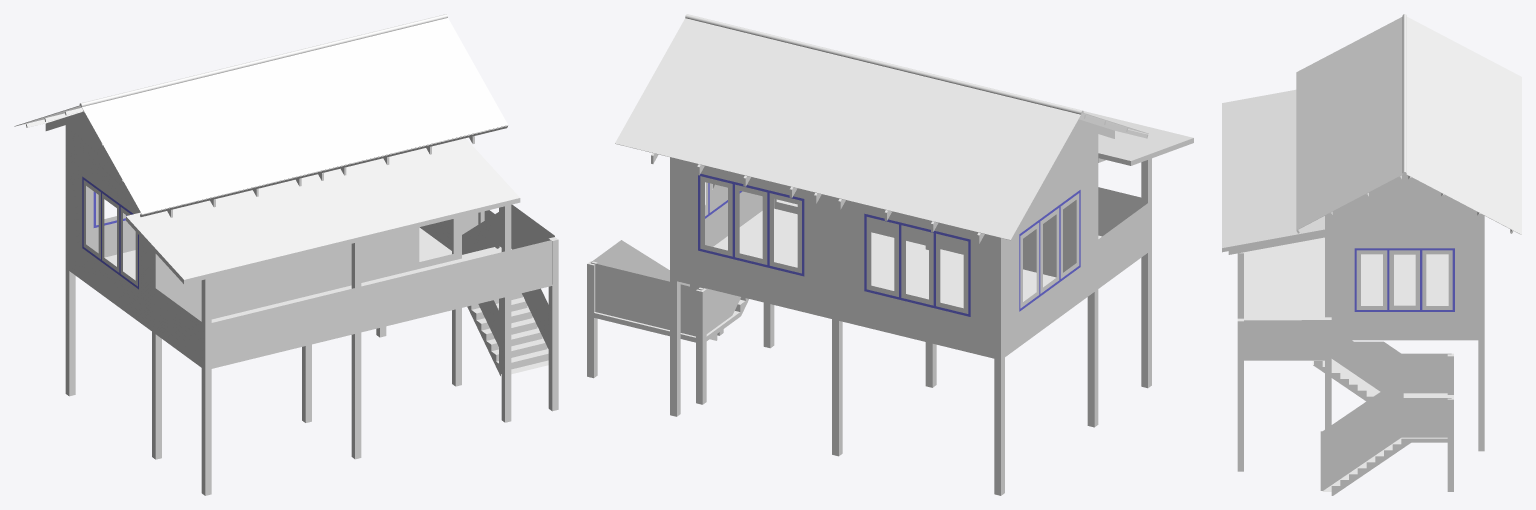
The model's file is smallhouse2.glb.
The picture shows the model from 3 angles, left to right: view 1: azimuth 30°, elevation 25°; view 2: azimuth 150°, elevation 25°; view 3: azimuth 270°, elevation 25°; orthographic projection. The views are drawn at different scales.
Visible parts, largest first — view 1: SketchUp.050, SketchUp.054, SketchUp.006, SketchUp.004, SketchUp.003, SketchUp.009, SketchUp.026, group_11.001, SketchUp.048, group_8, SketchUp.008, group_9 (+16 smaller); view 2: SketchUp.049, SketchUp.047, SketchUp.006, group_12, SketchUp.008, SketchUp.048, SketchUp.009, SketchUp.005, group_7, group_4, group_8, SketchUp.054 (+20 smaller); view 3: SketchUp.049, SketchUp.050, SketchUp.007, SketchUp.054, SketchUp.008, group_12, group_12.001, SketchUp.002, SketchUp.051, group_11.001, group_4, SketchUp.012 (+11 smaller).
Part boxes in pixels (x1=…): SketchUp.050: x1=82, y1=18, x2=507, y2=214; SketchUp.054: x1=126, y1=138, x2=519, y2=279; SketchUp.006: x1=69, y1=127, x2=151, y2=329; SketchUp.004: x1=361, y1=251, x2=504, y2=331; SketchUp.003: x1=211, y1=288, x2=354, y2=367; SketchUp.009: x1=162, y1=255, x2=305, y2=321; SketchUp.026: x1=312, y1=228, x2=455, y2=294; group_11.001: x1=467, y1=293, x2=548, y2=376; SketchUp.048: x1=14, y1=14, x2=507, y2=214; group_8: x1=201, y1=278, x2=211, y2=495; SketchUp.008: x1=104, y1=227, x2=511, y2=322; group_9: x1=351, y1=241, x2=361, y2=459; SketchUp.049: x1=615, y1=18, x2=1080, y2=239; SketchUp.047: x1=677, y1=159, x2=1000, y2=358; SketchUp.006: x1=1005, y1=136, x2=1094, y2=355; group_12: x1=590, y1=240, x2=740, y2=336; SketchUp.008: x1=713, y1=199, x2=1101, y2=308; SketchUp.048: x1=615, y1=14, x2=1148, y2=240; SketchUp.009: x1=940, y1=200, x2=1076, y2=277; SketchUp.005: x1=1098, y1=203, x2=1147, y2=287; group_7: x1=1087, y1=133, x2=1098, y2=427; group_4: x1=670, y1=157, x2=680, y2=416; group_8: x1=1141, y1=158, x2=1151, y2=388; SketchUp.054: x1=1083, y1=111, x2=1193, y2=160; SketchUp.049: x1=1406, y1=17, x2=1521, y2=234; SketchUp.050: x1=1296, y1=16, x2=1402, y2=229; SketchUp.007: x1=1331, y1=212, x2=1478, y2=339; SketchUp.054: x1=1222, y1=89, x2=1324, y2=247; SketchUp.008: x1=1244, y1=237, x2=1448, y2=320; group_12: x1=1320, y1=341, x2=1451, y2=490; group_12.001: x1=1320, y1=327, x2=1403, y2=451; SketchUp.002: x1=1244, y1=320, x2=1324, y2=359; SketchUp.051: x1=1332, y1=174, x2=1477, y2=212; group_11.001: x1=1312, y1=359, x2=1447, y2=495; group_4: x1=1478, y1=214, x2=1484, y2=451; SketchUp.012: x1=1354, y1=248, x2=1454, y2=311.
Bounding box in the file's own units: 10.05 × 7.48 × 6.86.
